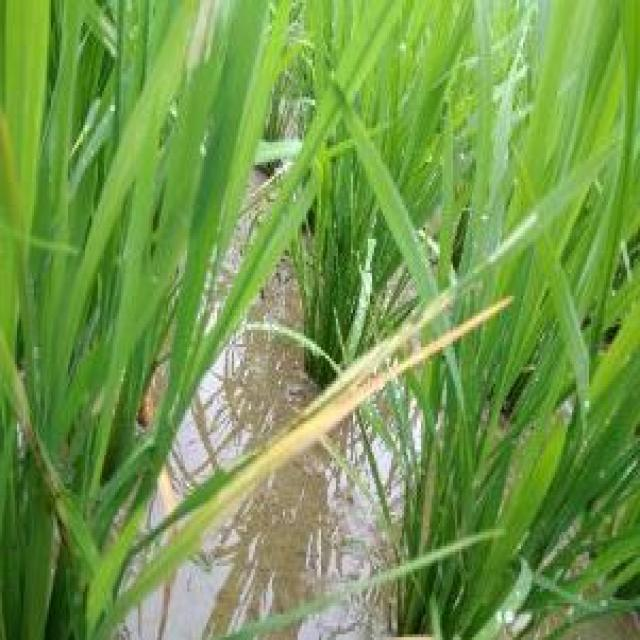Tungro: (159, 300, 525, 528)
